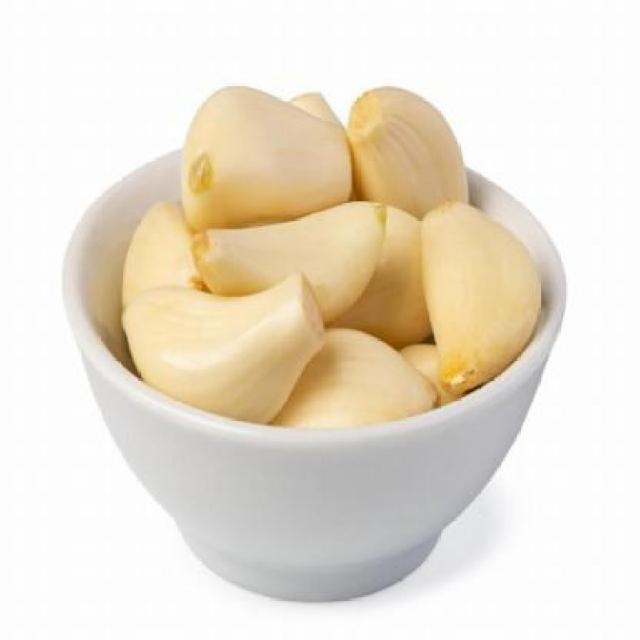garlic: (120, 84, 545, 441), (182, 191, 392, 330), (412, 198, 542, 396)
